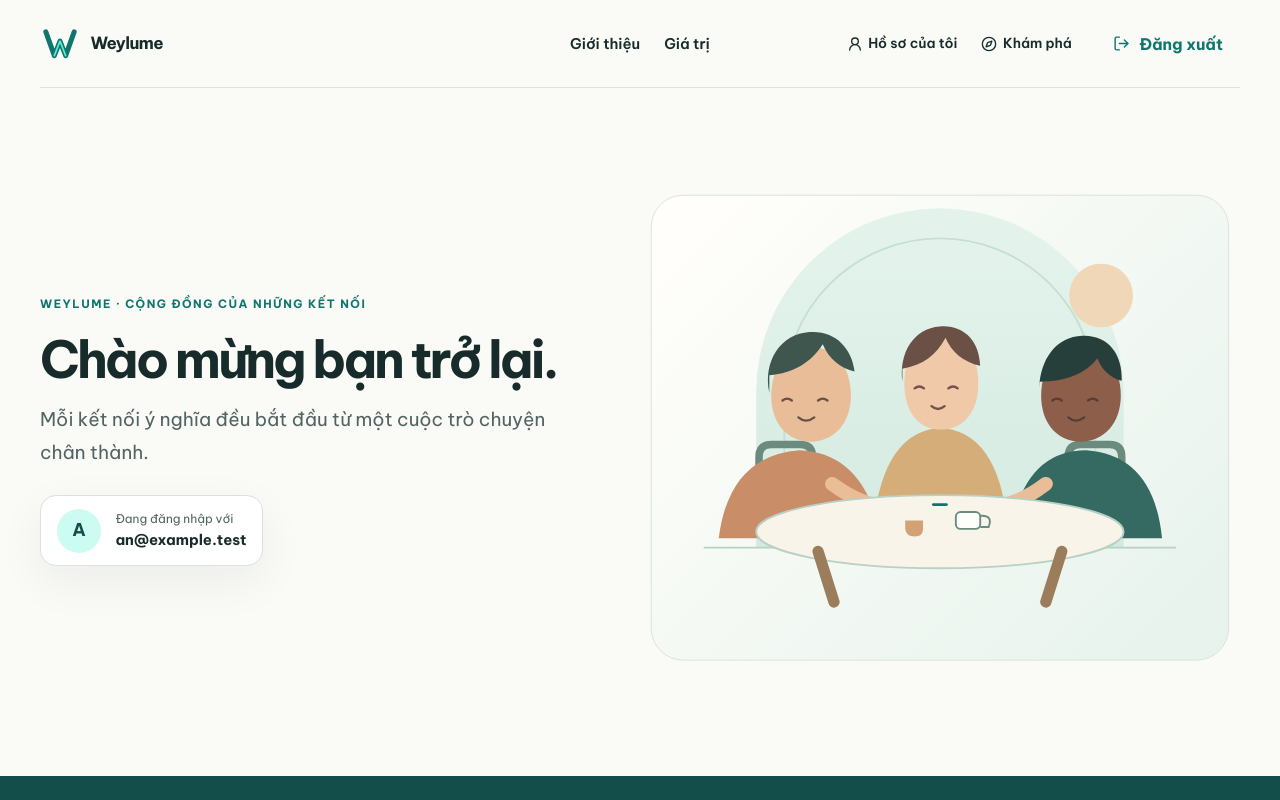
it: authentication pages › keeps the session visible and offers logout retry when logout fails
Expected: the text "an@example.test" is shown, left=115, top=528, right=246, bottom=552
Click the button "Đăng xuất".
click(1168, 44)  # box left=1096, top=22, right=1240, bottom=66
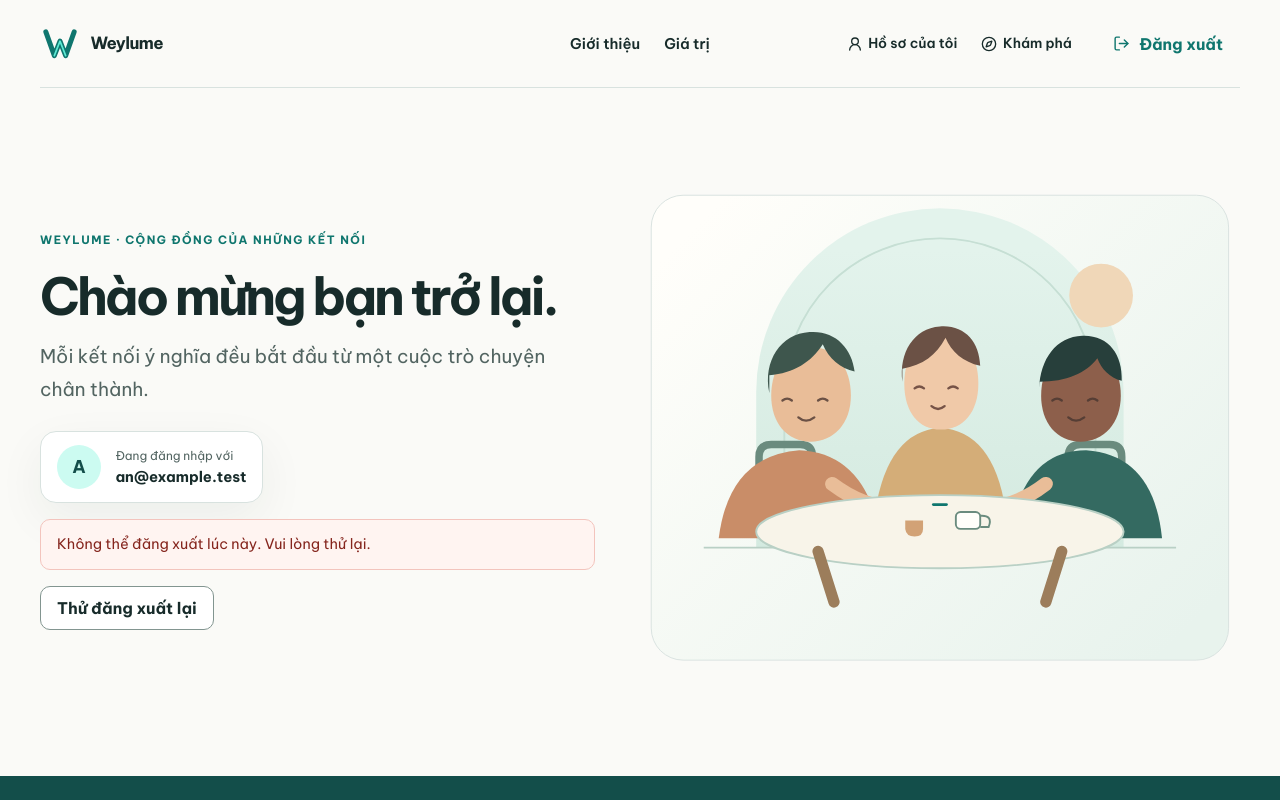
Expected: the text "an@example.test" is shown, left=115, top=465, right=246, bottom=488
Result: the message shows "Không thể đăng xuất lúc này." at left=57, top=535, right=371, bottom=553
Result: the button "Thử đăng xuất lại" is shown at left=40, top=586, right=214, bottom=630
